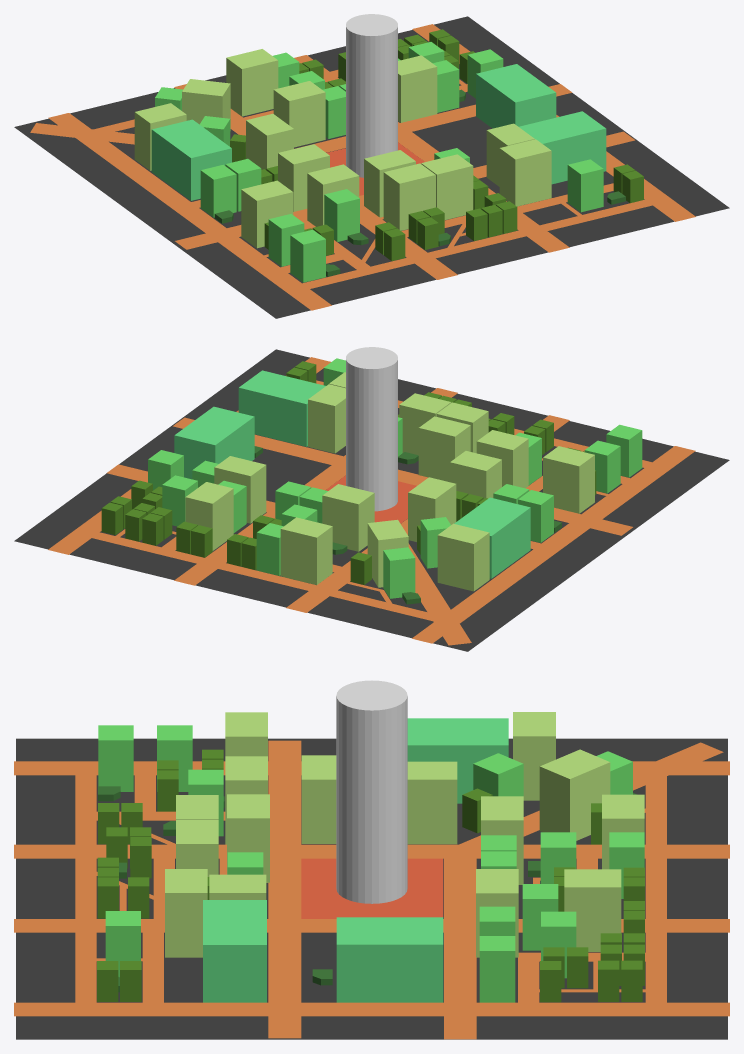
File: city2.fbx
3 renders of one model, top to bottom at view 1: azimuth 30°, elevation 25°; view 2: azimuth 150°, elevation 25°; view 3: azimuth 270°, elevation 25°, orthographic. The views are drawn at different scales.
Parts seen in each view (by area): view 1: Plane, Cylinder, Plane.010, Cube.019, Cube.011, Cube.036, Cube.037, Cube.065, Cube.000, Plane.011, Cube.067, Cube.010 (+35 smaller); view 2: Plane, Cylinder, Plane.010, Cube.036, Cube.011, Cube.019, Cube.020, Cube.065, Cube.045, Cube.067, Plane.012, Cube.032 (+34 smaller); view 3: Plane, Cylinder, Plane.009, Plane.005, Cube.011, Cube.036, Plane.004, Plane.002, Plane.003, Cube.019, Cube.077, Plane.011 (+51 smaller).
Boxes of the visible parts, bbox=[...] form: Plane: bbox=[14, 16, 729, 318]; Cylinder: bbox=[346, 14, 397, 177]; Plane.010: bbox=[48, 113, 331, 310]; Cube.019: bbox=[151, 119, 231, 200]; Cube.011: bbox=[476, 64, 556, 128]; Cube.036: bbox=[519, 111, 606, 184]; Cube.037: bbox=[499, 139, 551, 206]; Cube.065: bbox=[226, 49, 278, 116]; Cube.000: bbox=[383, 163, 435, 230]; Plane.011: bbox=[300, 199, 652, 289]; Cube.067: bbox=[273, 81, 325, 147]; Cube.010: bbox=[398, 55, 437, 122]; Plane: bbox=[14, 349, 729, 651]; Cylinder: bbox=[346, 347, 397, 511]; Plane.010: bbox=[412, 446, 695, 643]; Cube.036: bbox=[238, 370, 325, 446]; Cube.011: bbox=[174, 406, 254, 479]; Cube.019: bbox=[454, 497, 530, 578]; Cube.020: bbox=[437, 523, 489, 591]; Cube.065: bbox=[280, 517, 332, 584]; Cube.045: bbox=[543, 446, 594, 513]; Cube.067: bbox=[322, 484, 374, 551]; Plane.012: bbox=[88, 532, 432, 621]; Cube.032: bbox=[418, 416, 470, 482]; Plane: bbox=[16, 738, 727, 1039]; Cylinder: bbox=[336, 680, 407, 903]; Plane.009: bbox=[14, 1002, 729, 1016]; Plane.005: bbox=[268, 740, 301, 1038]; Cube.011: bbox=[336, 917, 443, 1002]; Cube.036: bbox=[203, 900, 266, 1002]; Plane.004: bbox=[444, 850, 476, 1039]; Plane.002: bbox=[301, 858, 443, 918]; Plane.003: bbox=[14, 844, 729, 858]; Cube.019: bbox=[407, 718, 508, 803]; Cube.077: bbox=[539, 749, 610, 840]; Plane.011: bbox=[75, 773, 96, 1002].
Bounding box in the file's own units: 50015 × 15000 × 50287.
